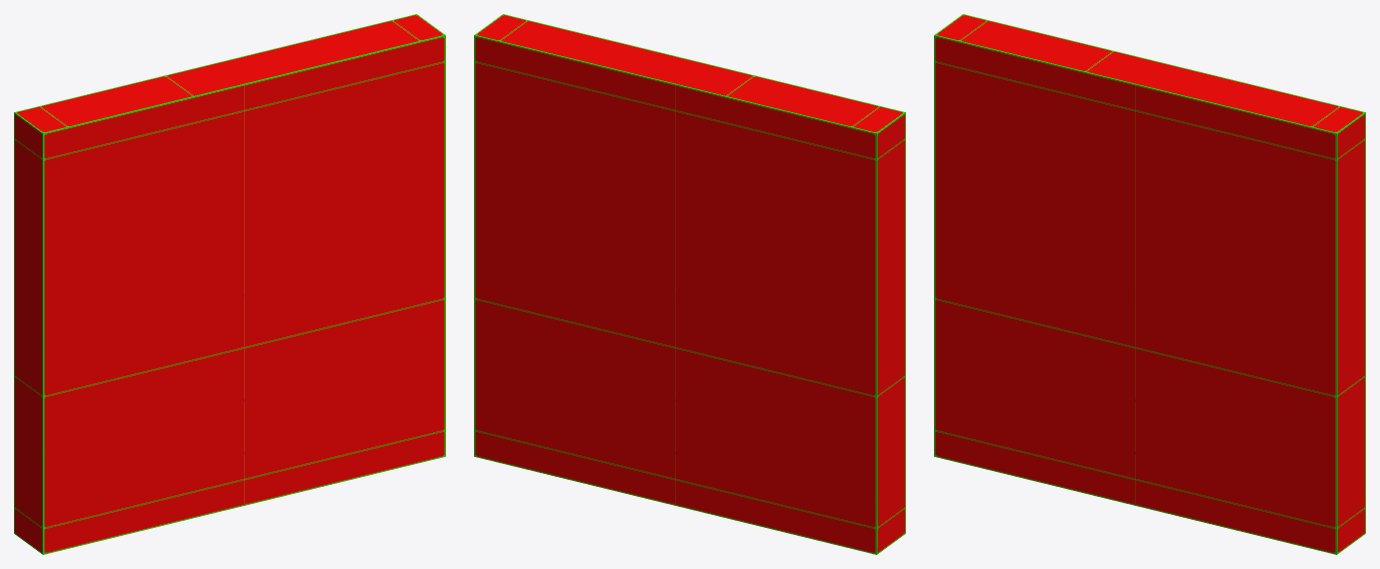
File: SM_Bathroom_Wall_A.FBX
3 views of the same model, side by side, from view 1: azimuth 30°, elevation 25°; view 2: azimuth 150°, elevation 25°; view 3: azimuth 330°, elevation 25° (orthographic).
Parts seen in each view (by area): view 1: SM_Bathroom_Wall_A; view 2: SM_Bathroom_Wall_A; view 3: SM_Bathroom_Wall_A.
Part boxes in pixels (x1,y1,x2,y2): SM_Bathroom_Wall_A: (14, 14, 445, 554); SM_Bathroom_Wall_A: (474, 14, 905, 554); SM_Bathroom_Wall_A: (934, 14, 1365, 554).
Bounding box in the file's own units: 400 × 400 × 50.
Materials: 1 (1 with a texture image).
